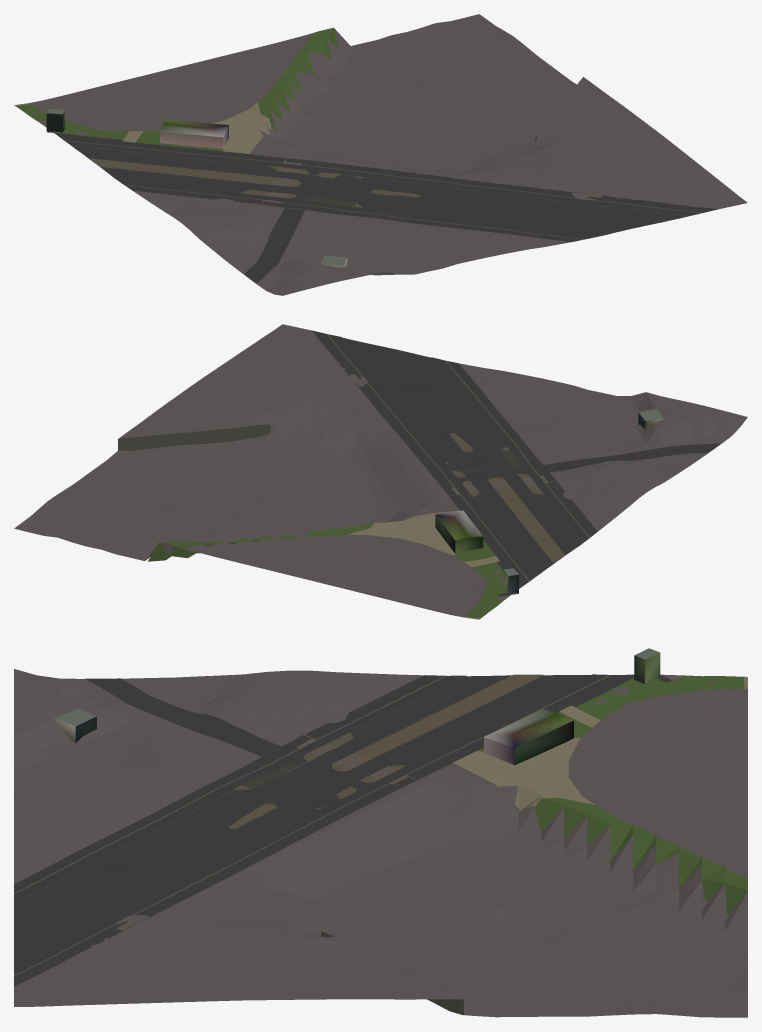
3 views of the same model, one above another, from view 1: azimuth 30°, elevation 25°; view 2: azimuth 150°, elevation 25°; view 3: azimuth 270°, elevation 25° (orthographic). The views are drawn at different scales.
Parts seen in each view (by area): view 1: c_p02_m11; view 2: c_p02_m11; view 3: c_p02_m11.
Part boxes in pixels (x1,y1,x2,y2): c_p02_m11: (14, 14, 747, 295); c_p02_m11: (14, 324, 747, 619); c_p02_m11: (14, 648, 747, 1017).
Size of the model in its own units: 129 by 11.27 by 128.
